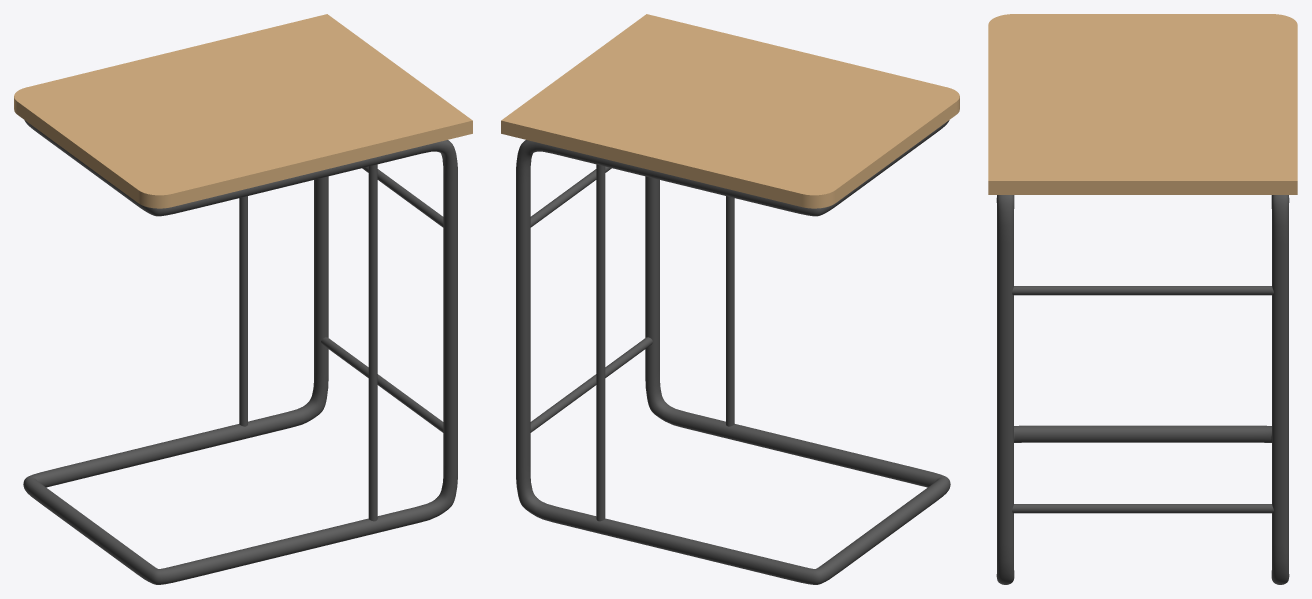
Rendered from 355_サイドテーブル.glb.
3 renders of one model, left to right at view 1: azimuth 30°, elevation 25°; view 2: azimuth 150°, elevation 25°; view 3: azimuth 270°, elevation 25°, orthographic. The views are drawn at different scales.
Parts seen in each view (by area): view 1: Body1; view 2: Body1; view 3: Body1.
Part boxes in pixels (x1=…): Body1: x1=14, y1=14, x2=472, y2=584; Body1: x1=501, y1=14, x2=959, y2=584; Body1: x1=988, y1=14, x2=1297, y2=584.
Size of the model in its own units: 0.46 by 0.5402 by 0.36.
